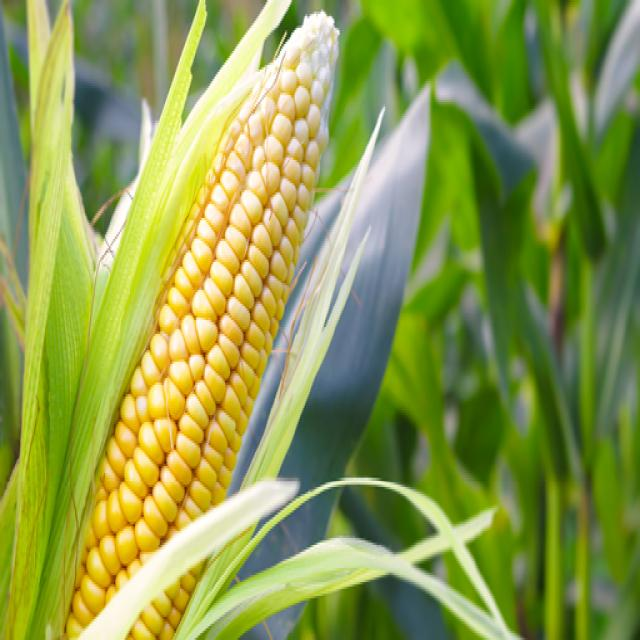corn: (52, 18, 355, 640)
